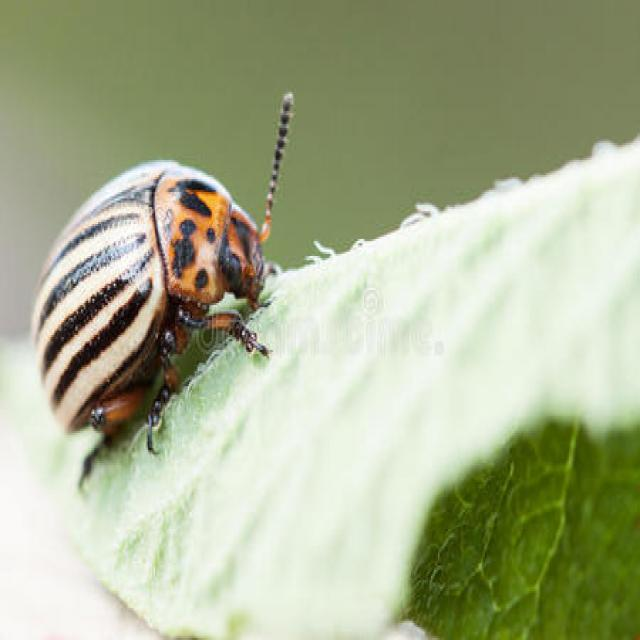ShuCaiHuaBanChong-Grown-: (21, 150, 298, 436)
